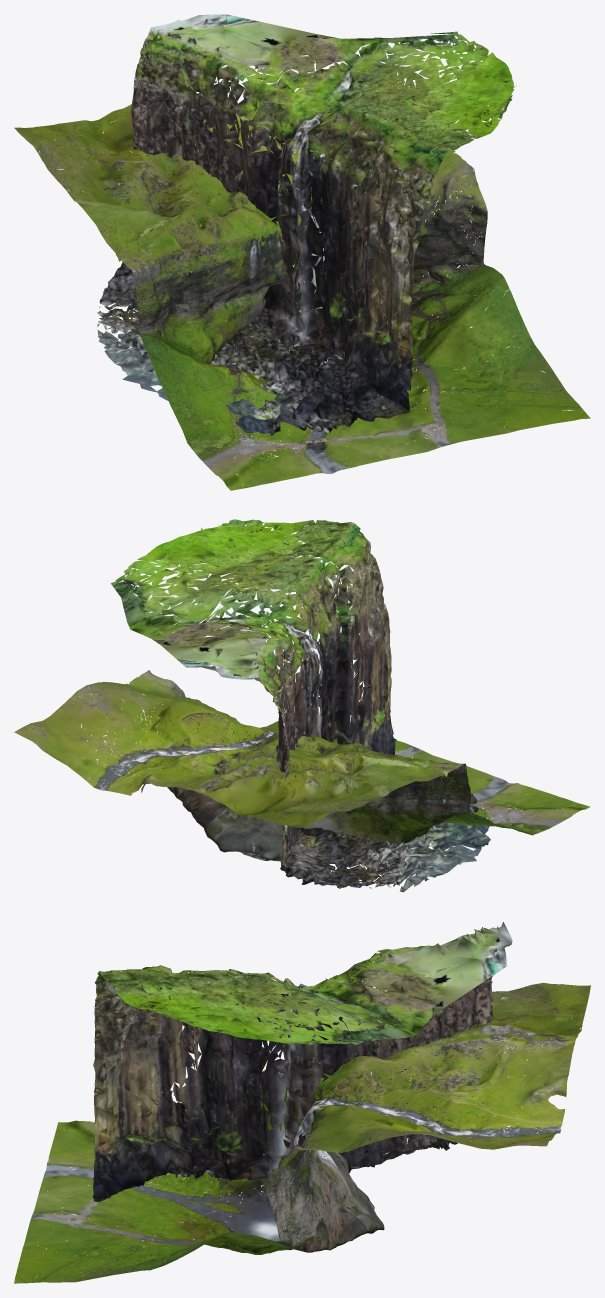
File: waterfalls.glb
The picture shows the model from 3 angles, top to bottom: view 1: azimuth 30°, elevation 25°; view 2: azimuth 150°, elevation 25°; view 3: azimuth 270°, elevation 25°; orthographic projection. The views are drawn at different scales.
Parts seen in each view (by area): view 1: Model_Model_0_0 (×4), Model_material0_0 (×5); view 2: Model_Model_0_0 (×4), Model_material0_0 (×6); view 3: Model_material0_0 (×6), Model_Model_0_0 (×4).
Part boxes in pixels (x1,y1,x2,y2): Model_Model_0_0 (×4): (97,14,516,443); Model_material0_0 (×5): (14,59,590,490); Model_Model_0_0 (×4): (110,519,490,892); Model_material0_0 (×6): (14,670,590,864); Model_material0_0 (×6): (14,983,590,1283); Model_Model_0_0 (×4): (92,922,512,1201).
Bounding box in the file's own units: 24.47 × 17.14 × 31.41.
Materials: 2 (2 with a texture image).
